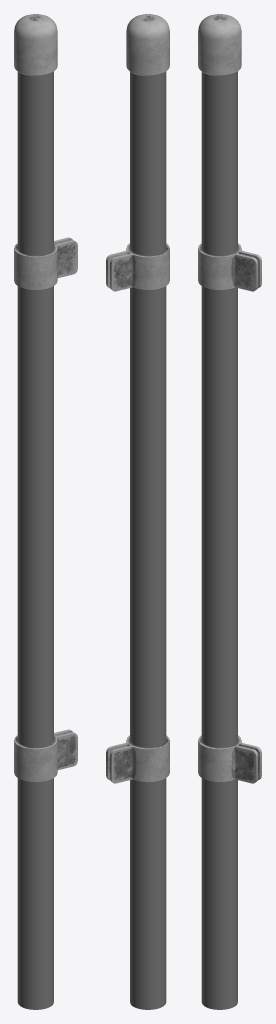
Rendered from stick.fbx.
The picture shows the model from 3 angles, left to right: view 1: azimuth 30°, elevation 25°; view 2: azimuth 210°, elevation 25°; view 3: azimuth 330°, elevation 25°; orthographic projection.
Parts seen in each view (by area): view 1: Brackets_low; view 2: Brackets_low; view 3: Brackets_low.
Part boxes in pixels (x1,y1,x2,y2): Brackets_low: [14, 14, 77, 1009]; Brackets_low: [106, 14, 169, 1009]; Brackets_low: [198, 14, 261, 1009].
Size of the model in its own units: 11.98 by 194 by 7.77.
